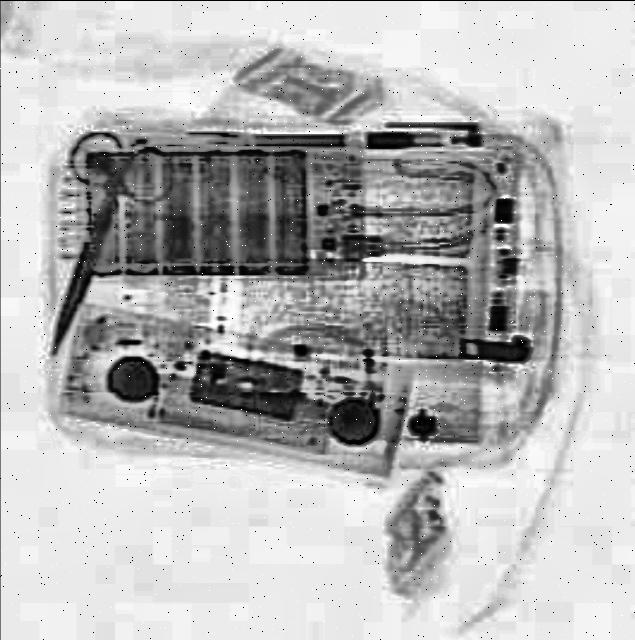Scissors: (0, 126, 180, 374)
